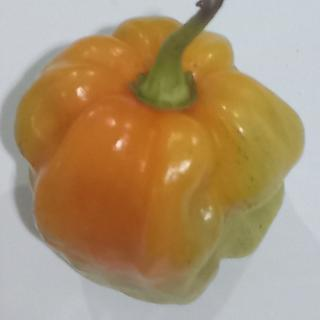Grade-B: (7, 9, 308, 305)
